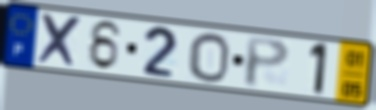1: (306, 42, 331, 99)
2: (140, 24, 181, 82)
6: (85, 19, 122, 73)
O: (187, 31, 232, 84)
P: (243, 35, 292, 90)
X: (35, 11, 85, 71)
